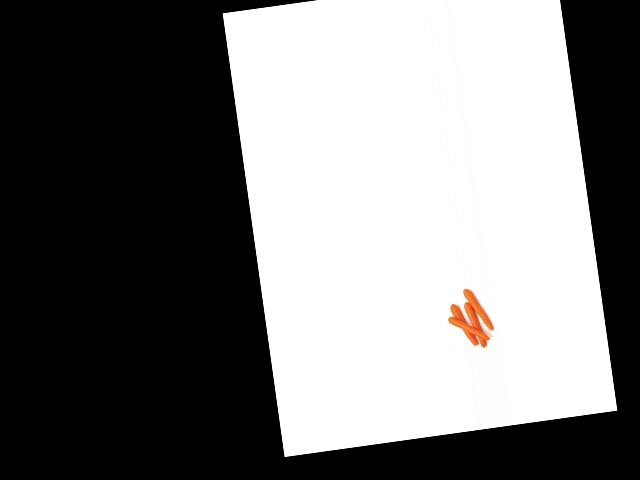carrot: (447, 298, 477, 348)
